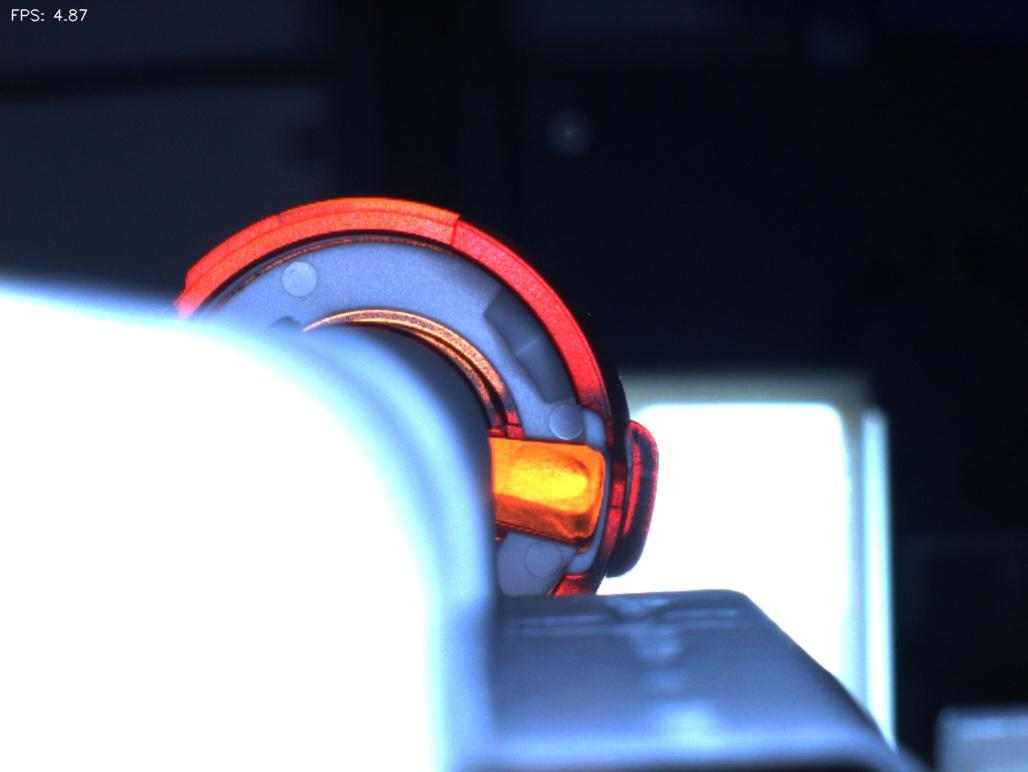Retassure: (499, 436, 597, 514)
